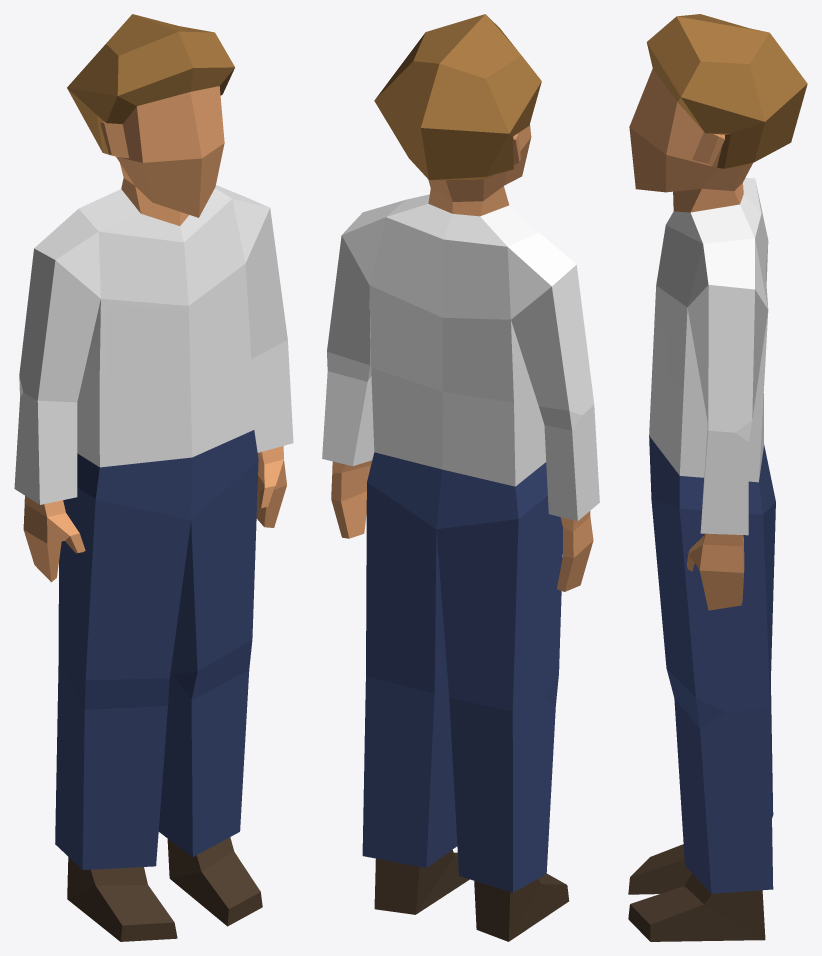
File: people_boy-shirt.fbx
3 renders of one model, left to right at view 1: azimuth 30°, elevation 25°; view 2: azimuth 150°, elevation 25°; view 3: azimuth 270°, elevation 25°, orthographic.
Parts seen in each view (by area): view 1: people_boy_shirt; view 2: people_boy_shirt; view 3: people_boy_shirt.
Boxes of the visible parts, x1,y1,x2,y2 form: people_boy_shirt: (14, 14, 293, 941); people_boy_shirt: (322, 14, 599, 941); people_boy_shirt: (628, 14, 807, 941).
Size of the model in its own units: 60.84 by 200 by 36.49.
